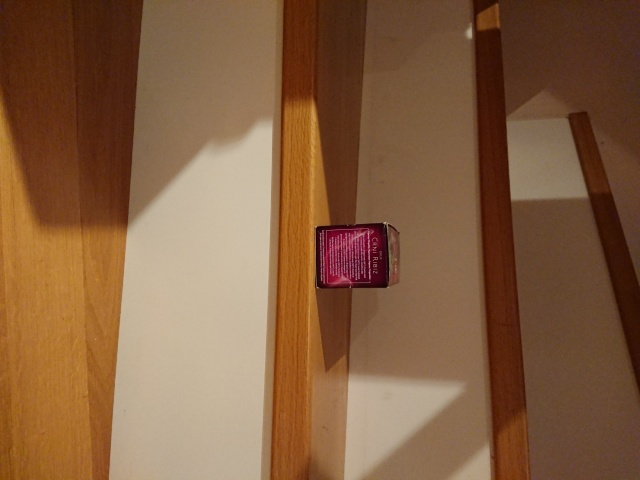Franck Black Currant Tea 60g: (312, 219, 403, 291)
